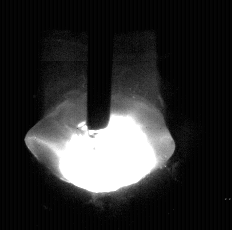arame: (88, 0, 112, 129)
poca: (25, 0, 173, 230)
